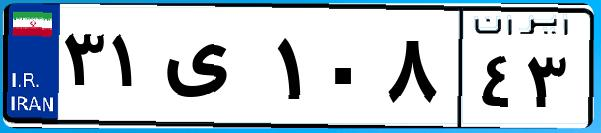0: (330, 28, 385, 110)
1: (270, 28, 330, 110), (110, 28, 158, 98)
3: (57, 26, 110, 100), (525, 38, 570, 115)
4: (475, 38, 525, 113)
8: (385, 28, 445, 110)
ی: (158, 20, 270, 120)
